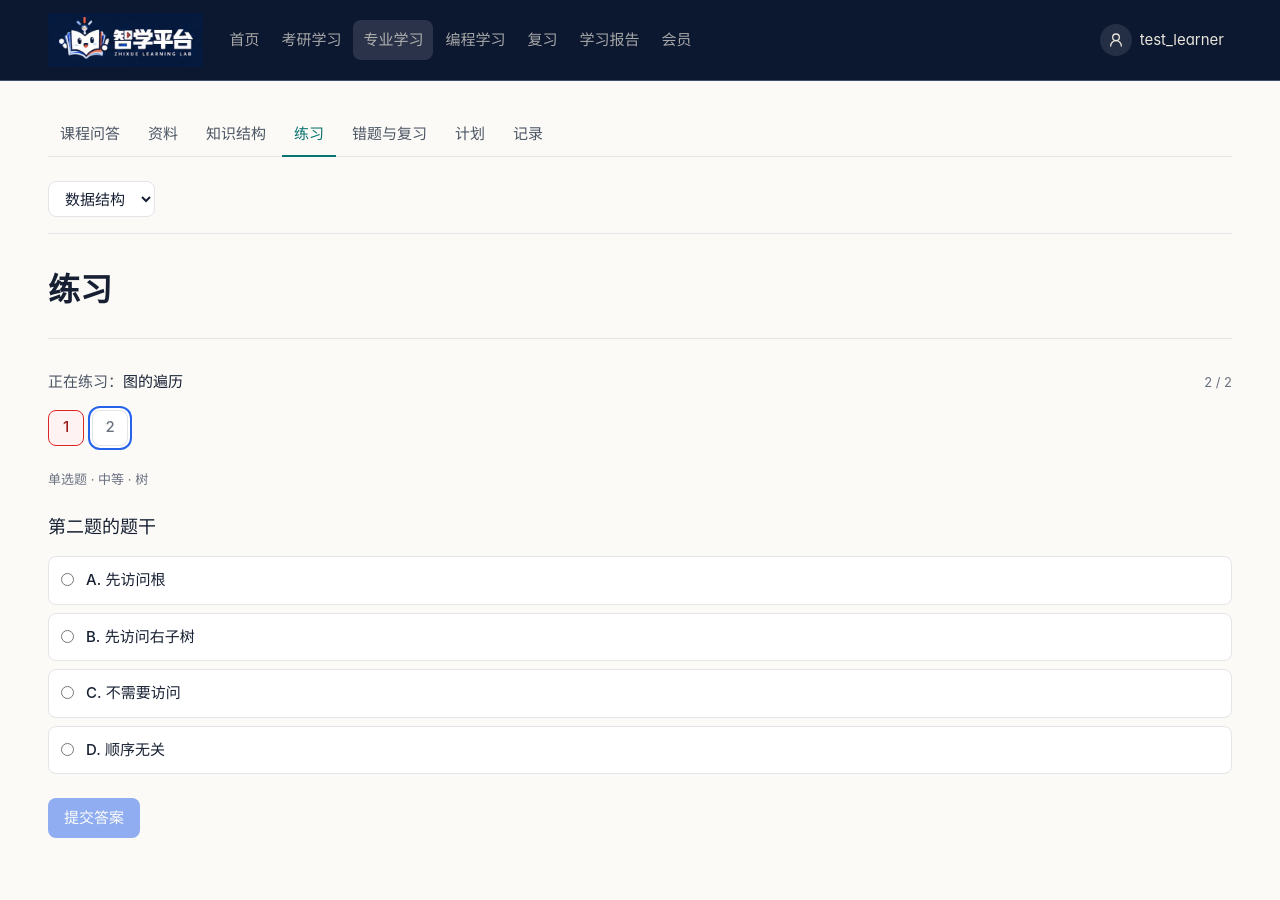
Test: the set › resumes at the first unanswered question and walks forward from there
Check: the heading "练习" is shown, box x1=48 y1=266 x2=112 y2=314
Check: the text "2 / 2" is shown, box x1=1204 y1=373 x2=1232 y2=392
// going back to the answered one offers the way forward again
Click the button named "第 1 题，已答错".
click(66, 428)  # box x1=48 y1=410 x2=84 y2=446
(page scrolled)
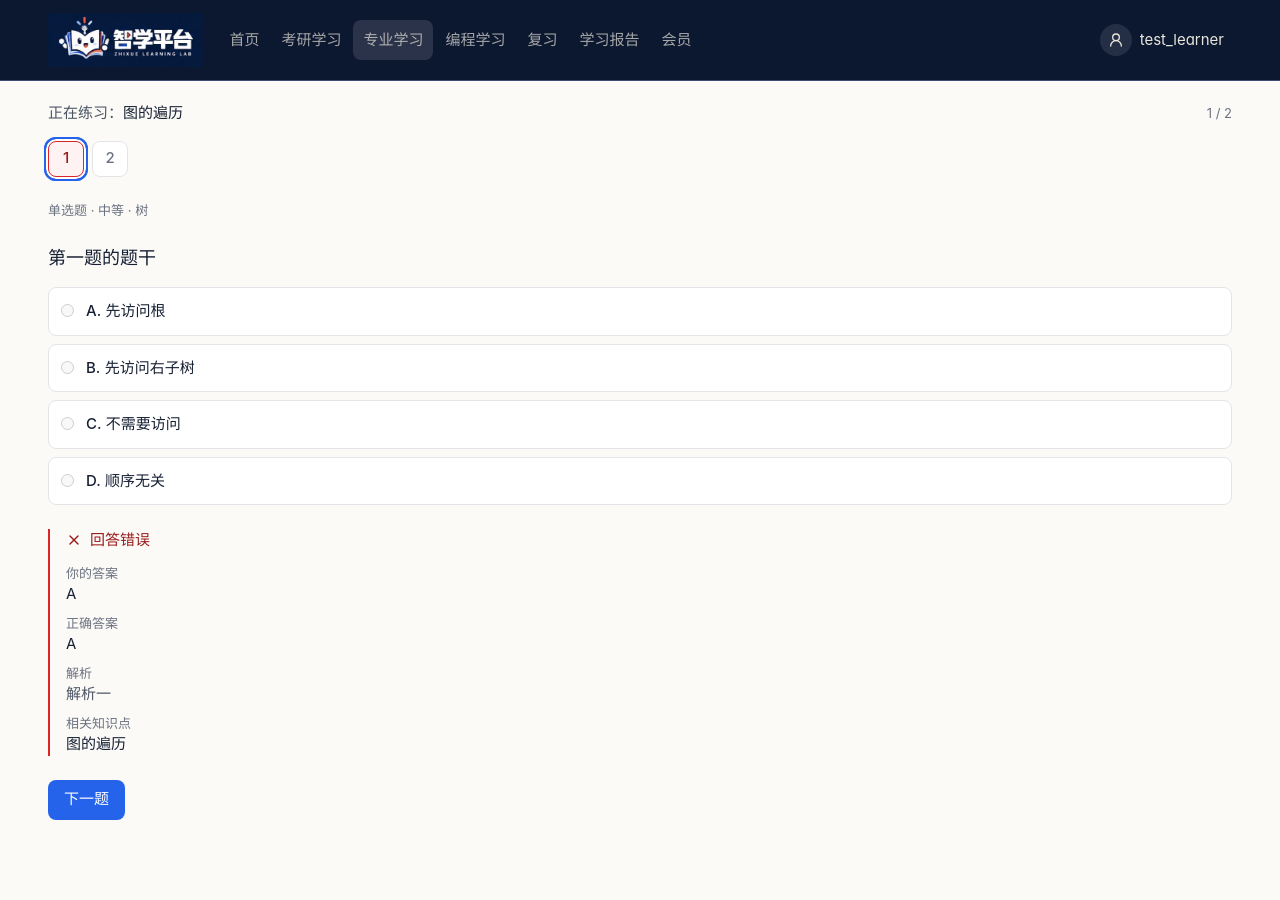
Check: the text "第一题的题干" is shown, box x1=48 y1=247 x2=156 y2=268
Click the button "下一题".
click(86, 800)  # box x1=48 y1=780 x2=125 y2=820
(page scrolled)
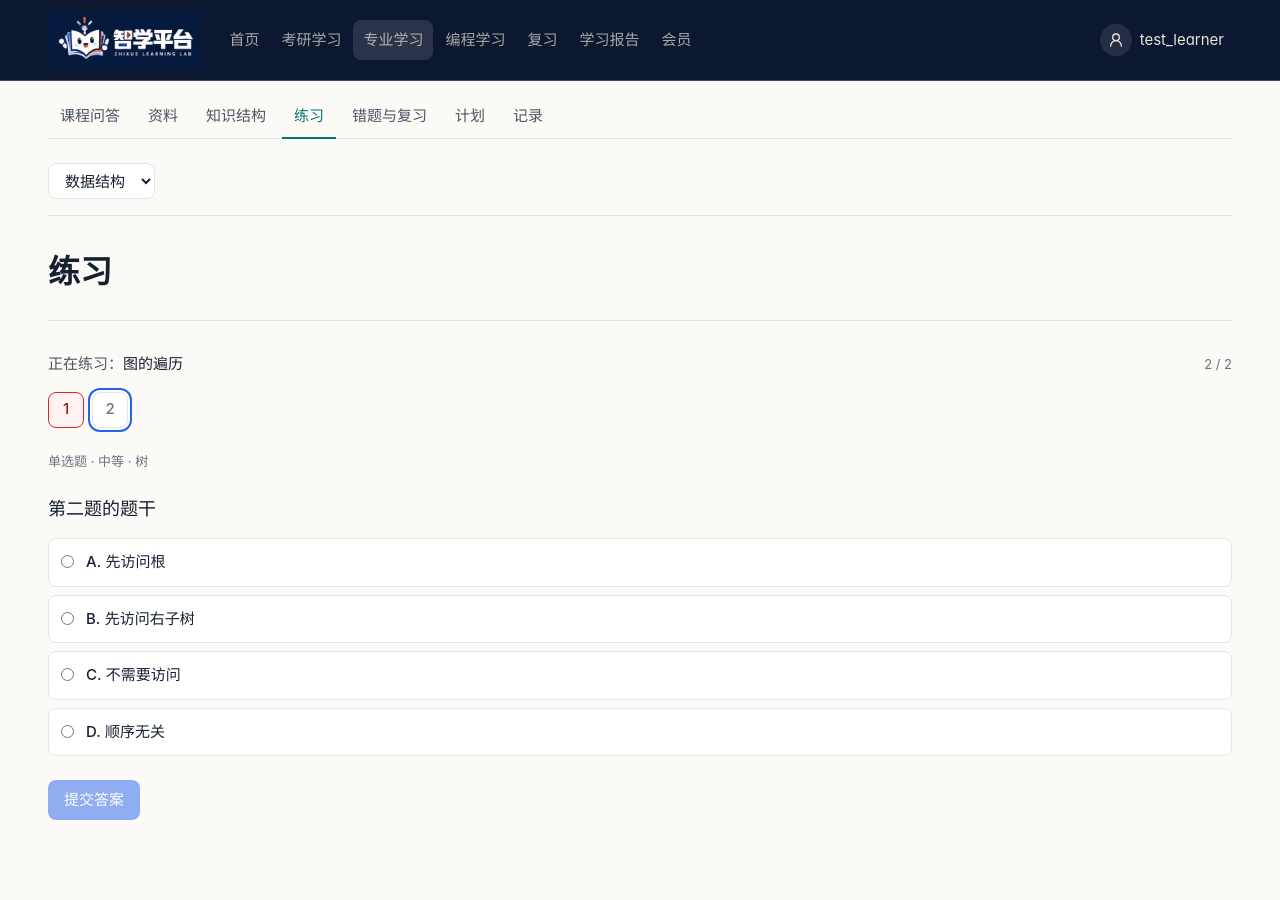
Check: the text "第二题的题干" is shown, box x1=48 y1=498 x2=156 y2=519
